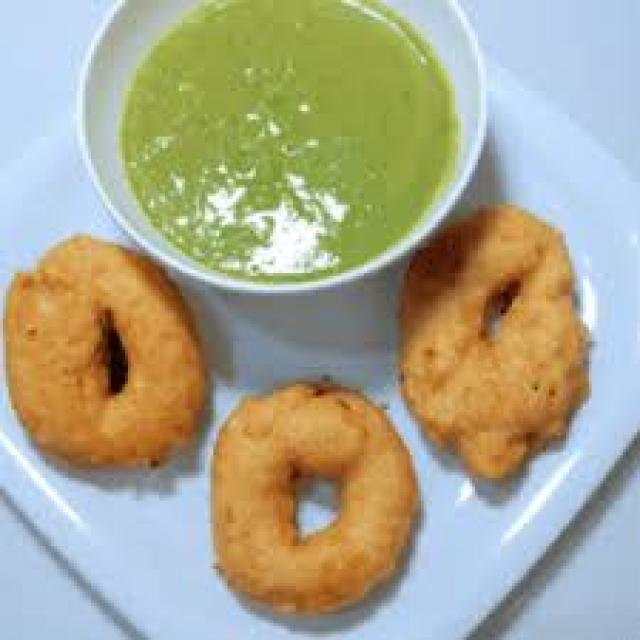MEDU VADA: (398, 209, 577, 481), (206, 382, 414, 612), (5, 233, 207, 463)
